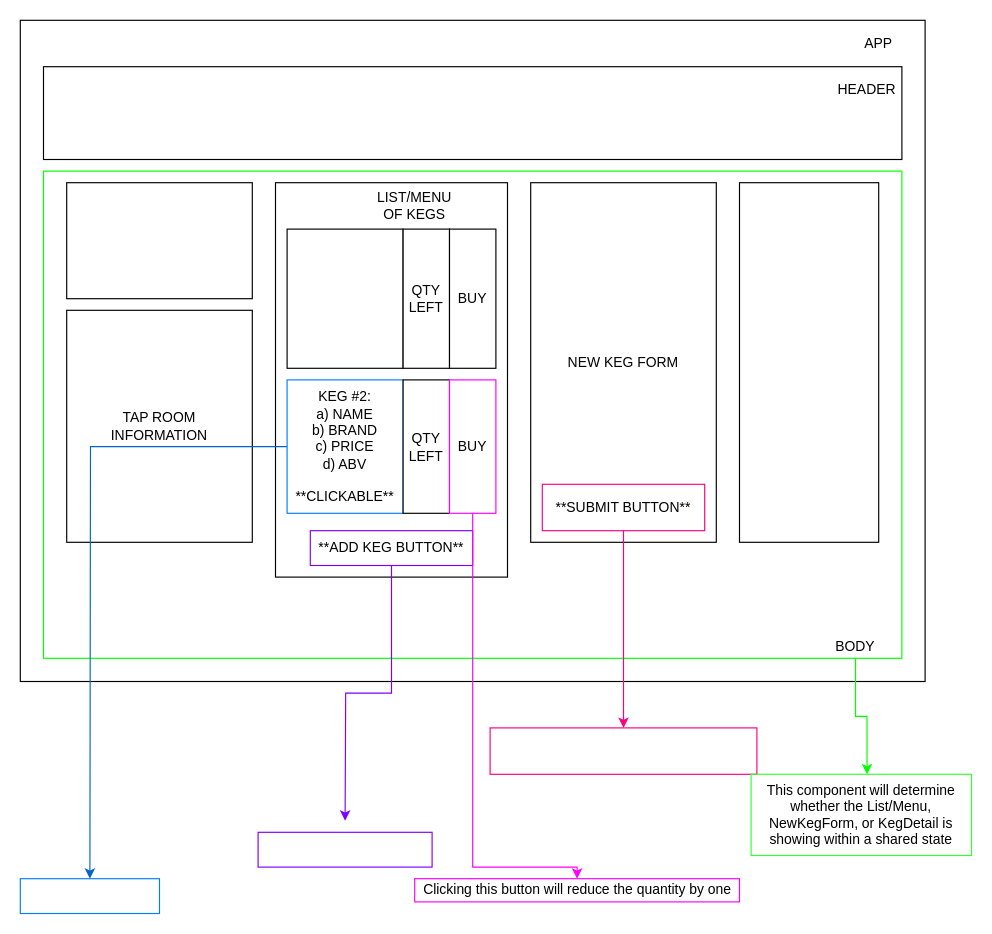
Image size: 992x934. Some labels were removed from this diagram. The shapes that lost their labels are listed below. From the top down, each one's centre as x and y in pixels, then its label:
At (x=159, y=240): "LOCATION + CONTACT".
At (x=344, y=298): "KEG #1: a) NAME b) BRAND c) PRICE d) ABV **CLICKABLE**".
At (x=808, y=362): "KEG DETAIL".
At (x=623, y=750): "Clicking this button will add a keg and then show within the List/Menu component".
At (x=344, y=849): "Clicking this button will show the NewKegForm".
At (x=89, y=895): "Clicking on a keg will show its details".
